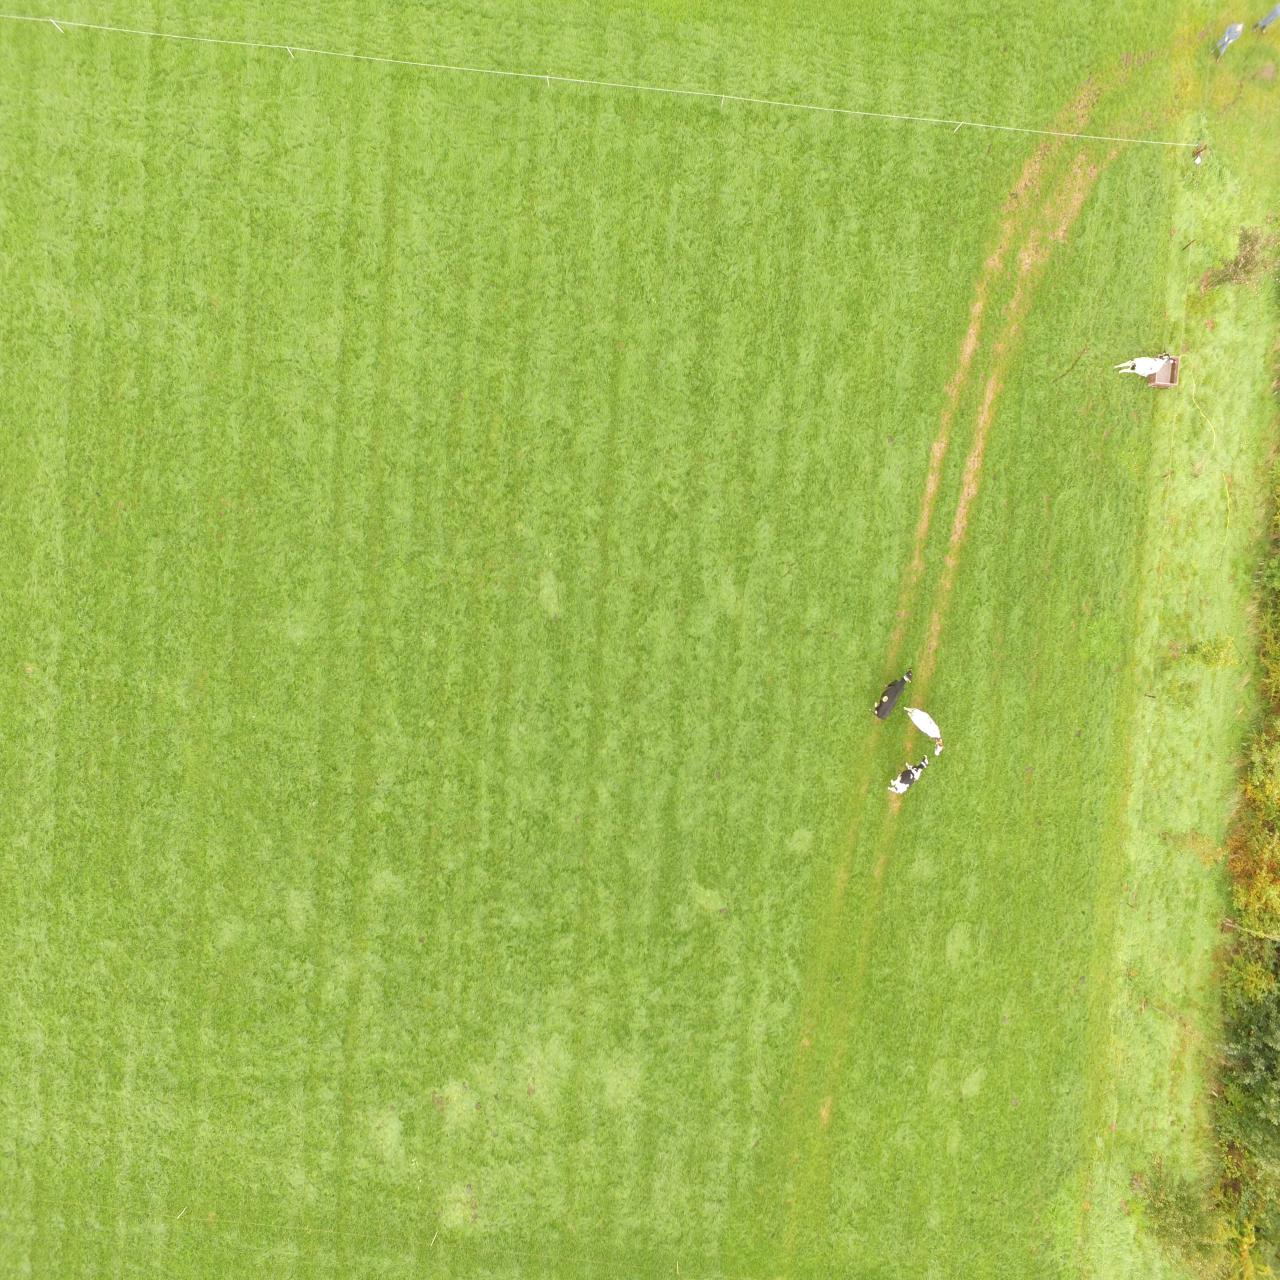cow: (869, 666, 913, 720), (904, 704, 945, 755), (887, 754, 930, 794), (1114, 349, 1170, 377)
